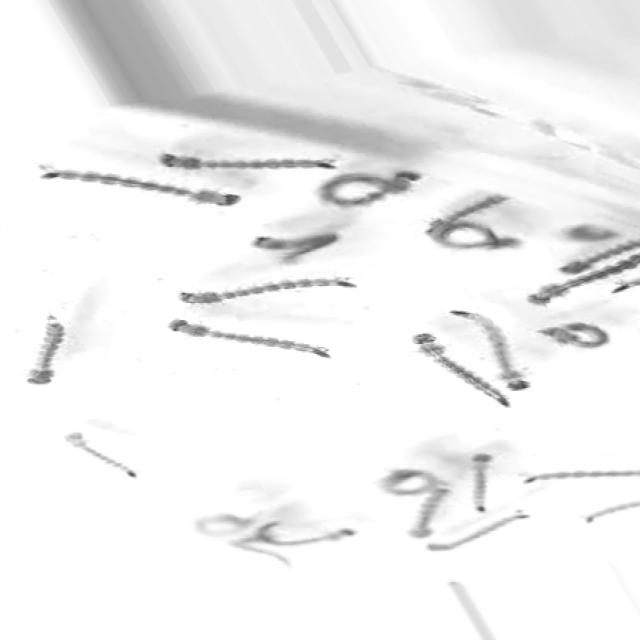larvas: (452, 294, 538, 399), (413, 325, 514, 409), (168, 317, 326, 364), (40, 173, 236, 207), (529, 250, 640, 310), (183, 280, 350, 310), (425, 184, 507, 244), (157, 152, 330, 174), (529, 459, 640, 493), (560, 232, 636, 279), (433, 520, 526, 554), (67, 429, 134, 476), (329, 170, 416, 206), (28, 316, 62, 389), (264, 517, 349, 546), (441, 224, 518, 253), (254, 229, 332, 257), (224, 535, 286, 570), (582, 492, 640, 528), (411, 482, 445, 540), (198, 510, 252, 538), (545, 325, 608, 347), (386, 470, 436, 494), (470, 453, 490, 512), (610, 268, 639, 296), (571, 228, 608, 244)
